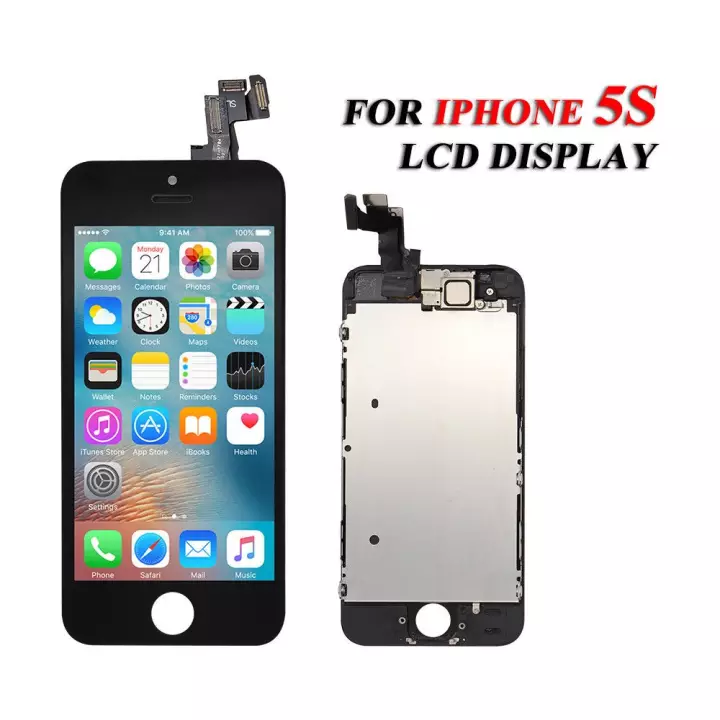Phone: (57, 156, 288, 652), (337, 263, 528, 649)
